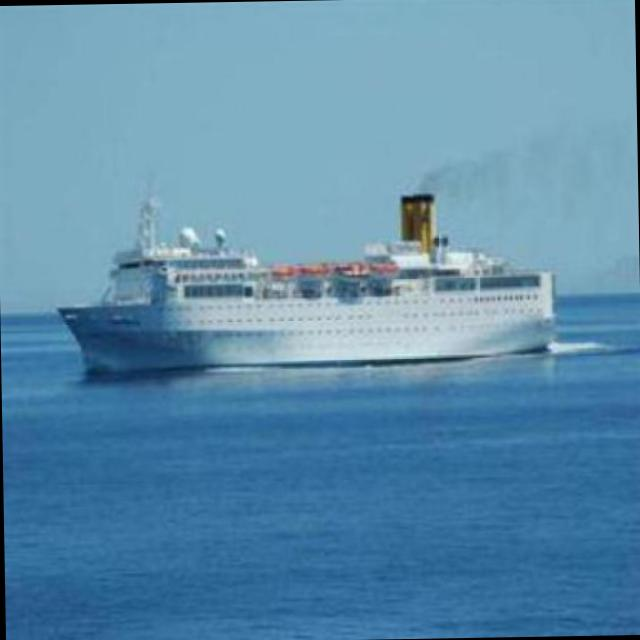boat: (45, 230, 571, 364)
